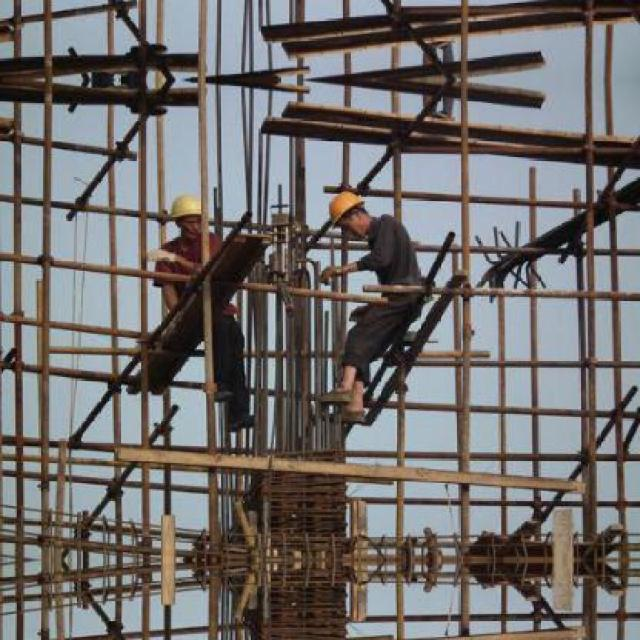helmet: (323, 178, 366, 230), (163, 191, 206, 223)
